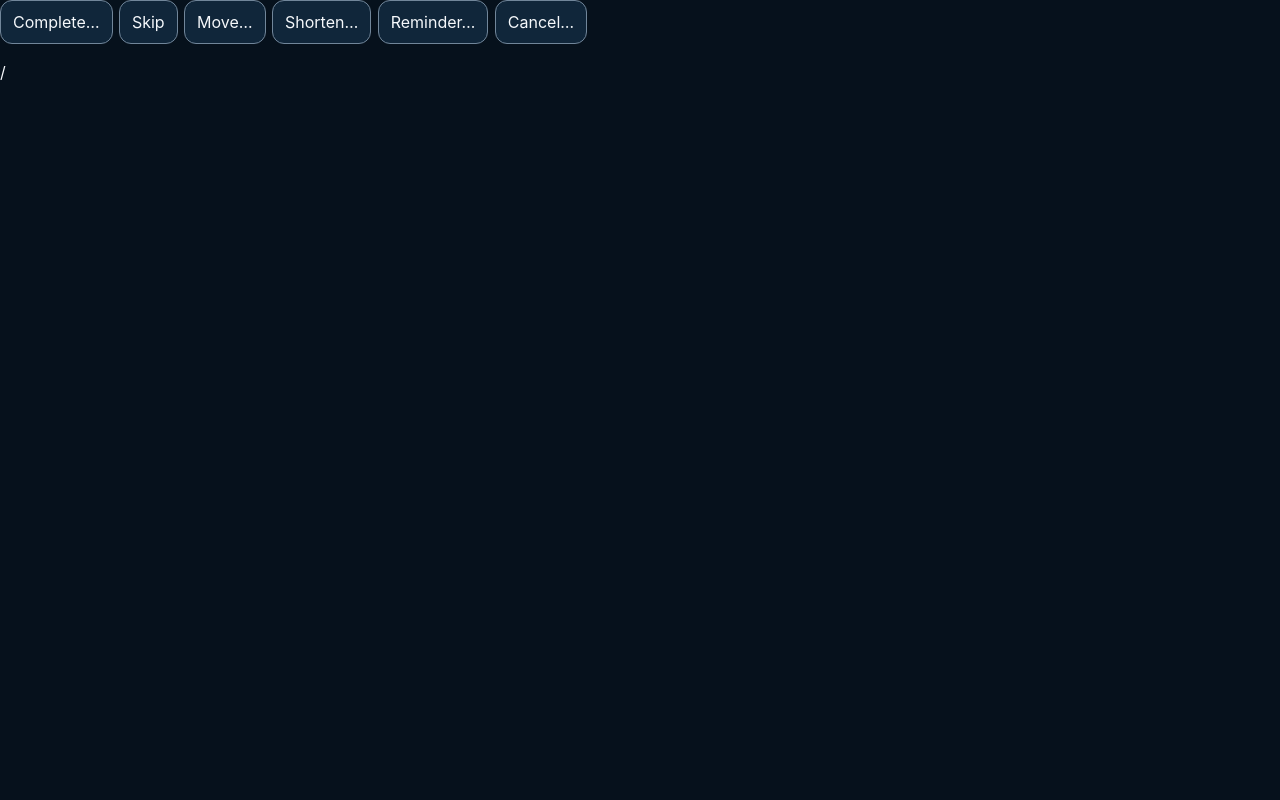
Test: block reminder dialog › sets a reminder before the start, saying it is saved and not yet delivered
Click the button named "Reminder… Write report". click: (433, 22)
box: [378,0,488,44]
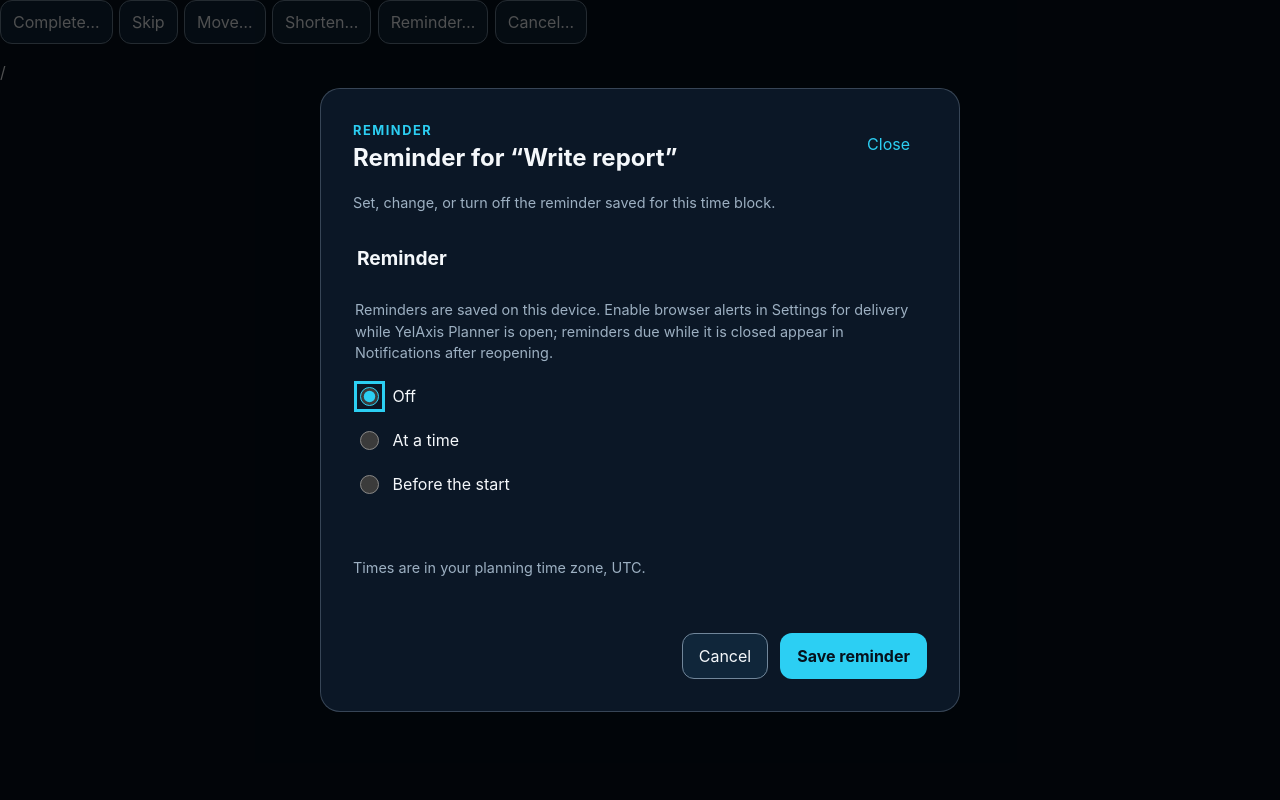
expect the element "Reminder" is shown: met, box [355,244,925,510]
expect the radio button labelled "Off" is checked: met, box [360,387,379,406]
Click the radio button labelled "Before the start". click: (370, 485)
box: [360,475,379,494]
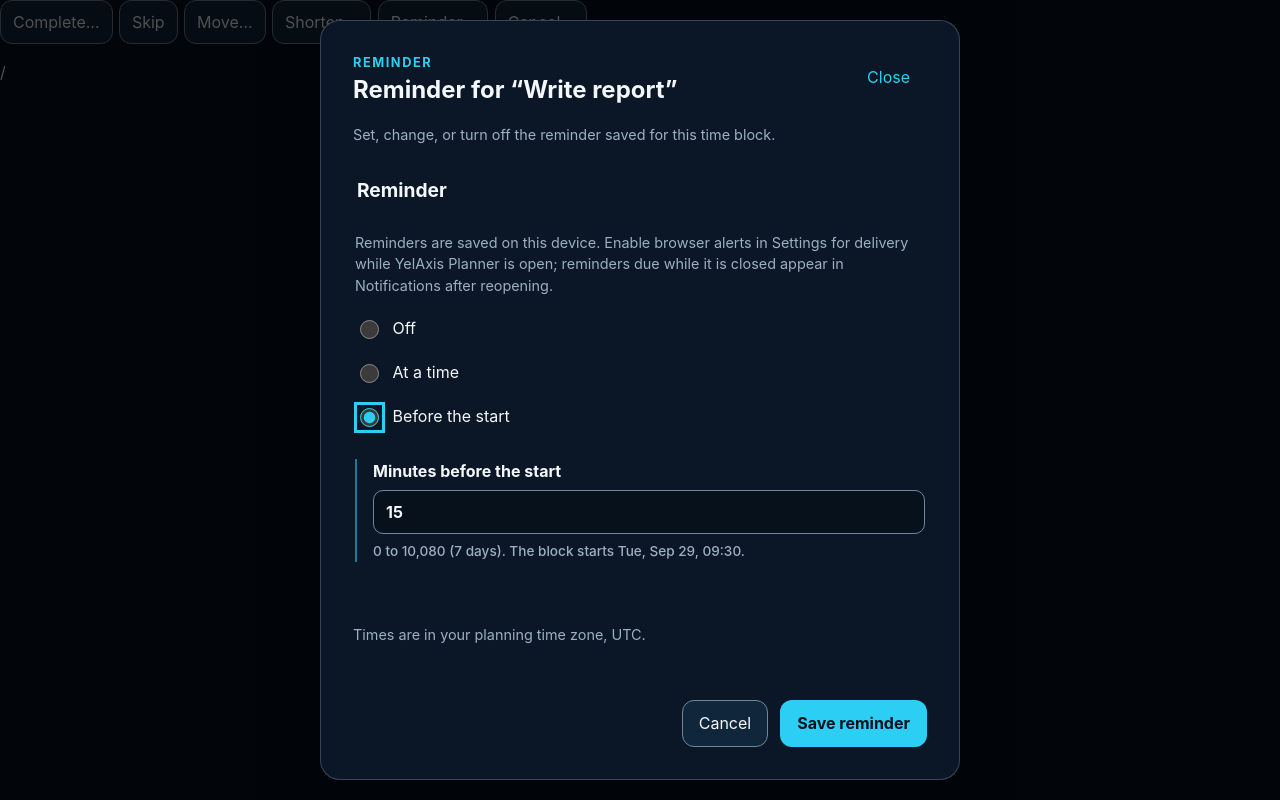
expect the number field labelled "Minutes before the start" holds "15": met
Replace the text in the number field labelled "Minutes before the start" with "30". click: (649, 512)
box: [373,490,925,534]
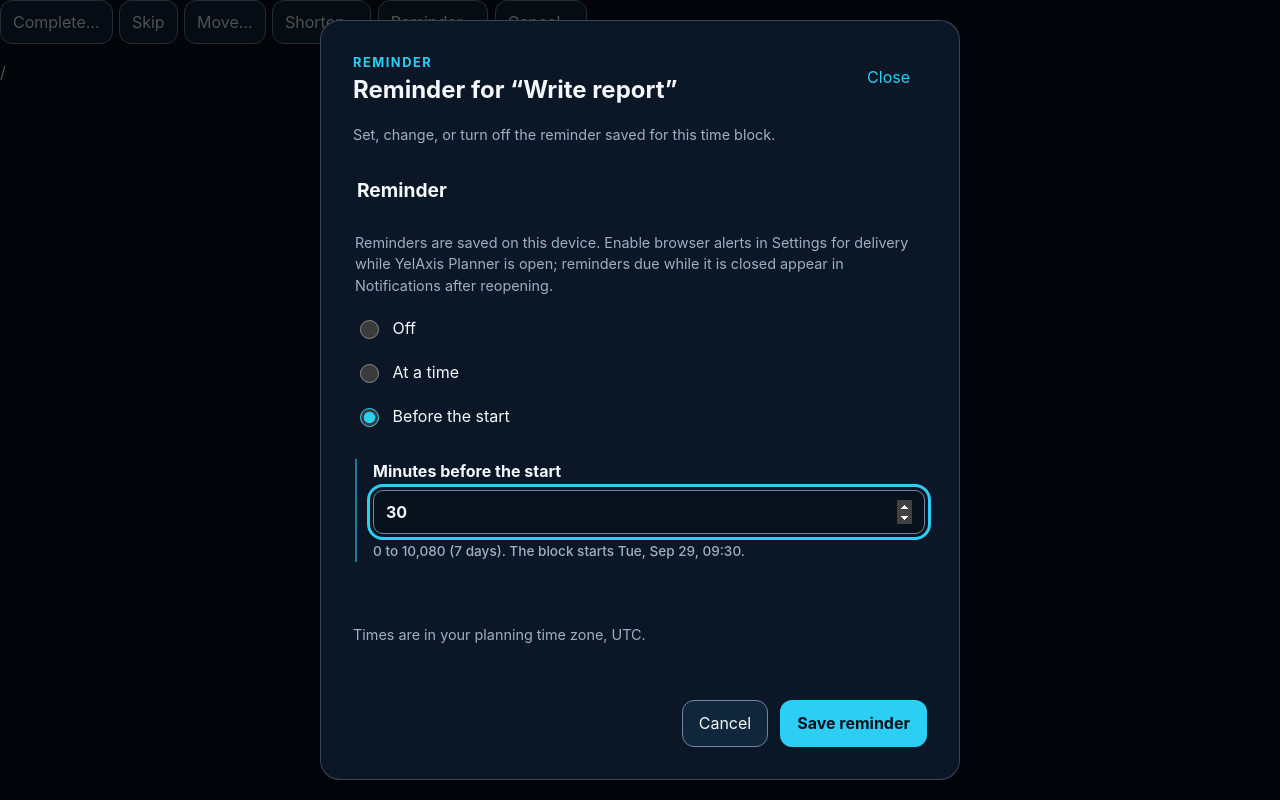
Click the button "Save reminder". click: (854, 723)
box: [780,700,927,747]
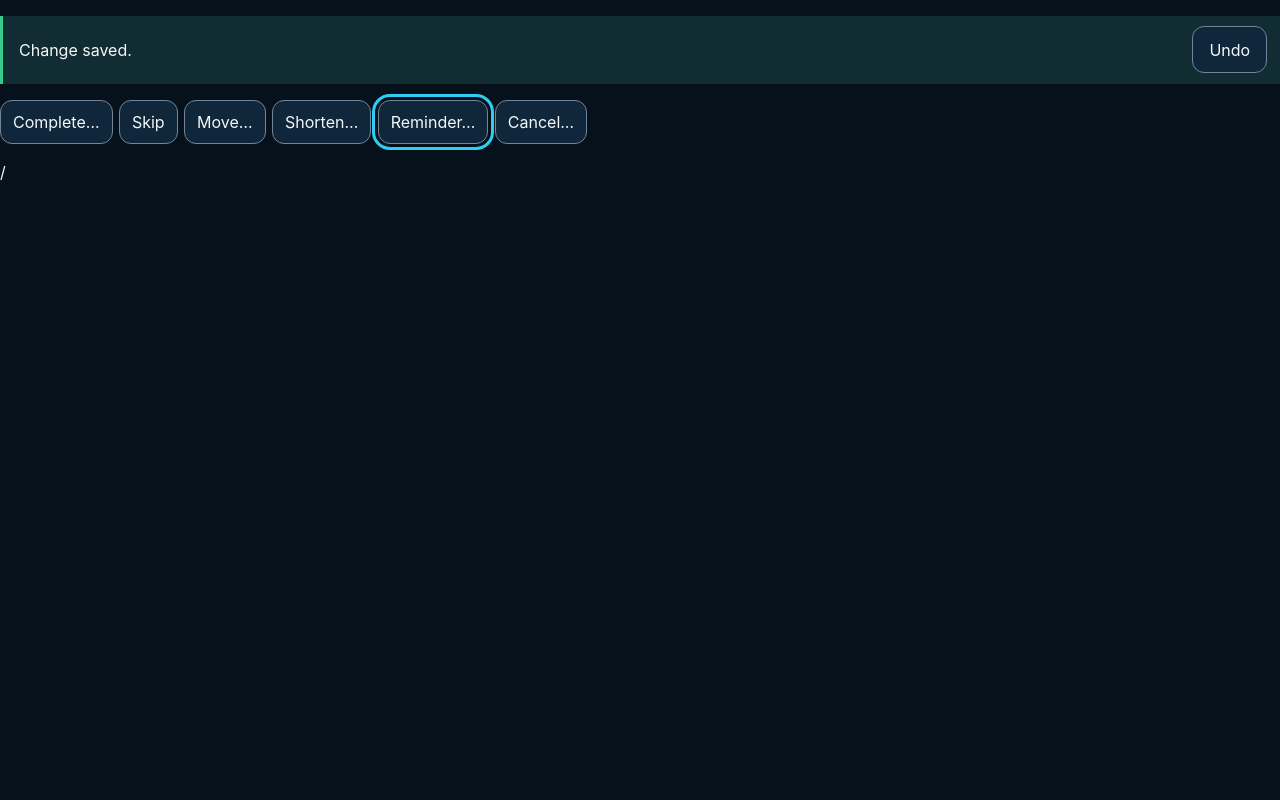
expect the dialog is gone: met
expect the button "Undo" is shown: met, box [1192,26,1267,73]
